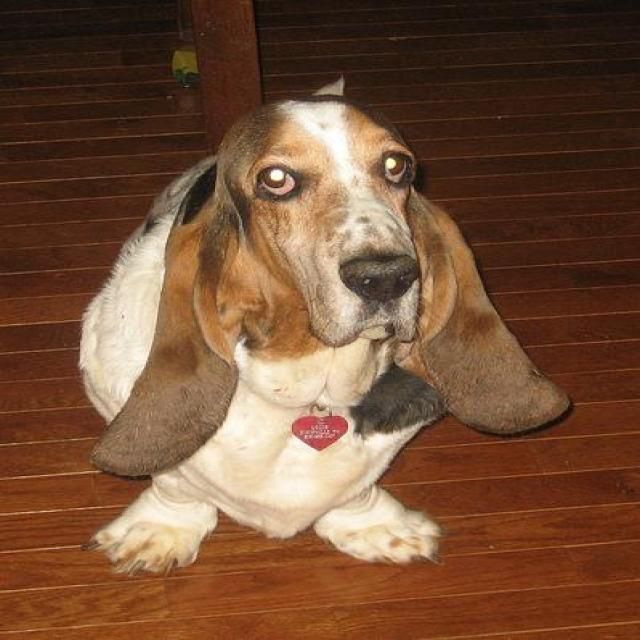basset: (77, 71, 571, 588)
